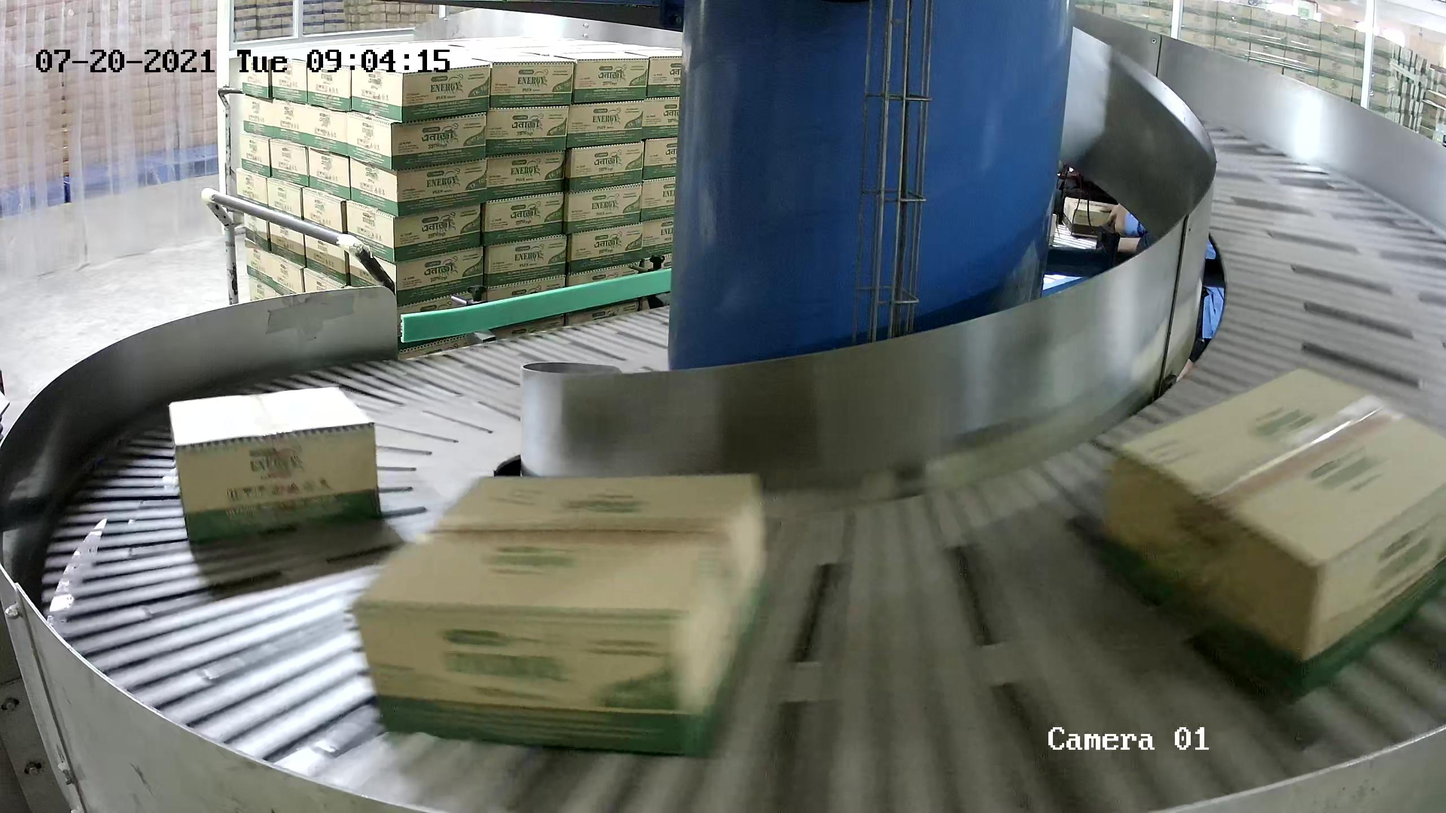Box: (349, 470, 771, 762), (1093, 363, 1446, 708), (167, 385, 381, 543)
